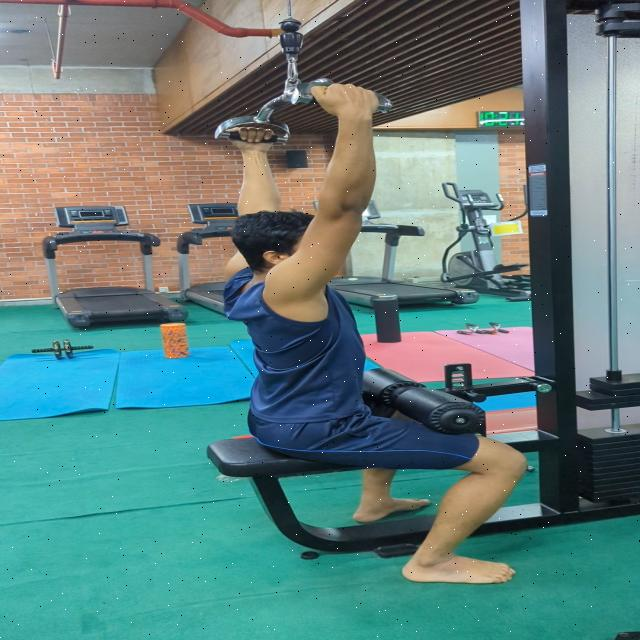Normal_LatPulldown: (196, 77, 545, 598)
